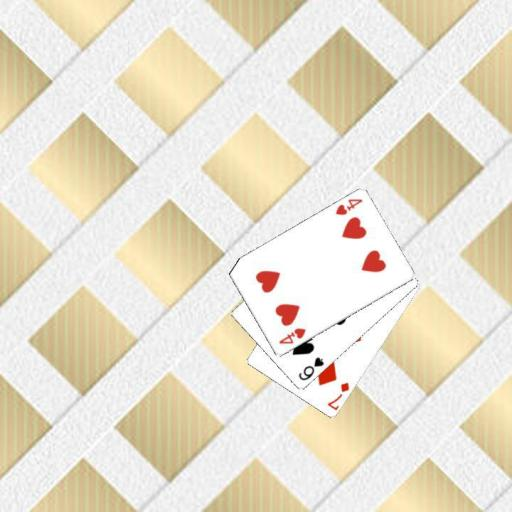4H: (332, 195, 364, 217), (275, 325, 307, 346)
6S: (295, 354, 325, 383)
7D: (324, 379, 351, 412)
